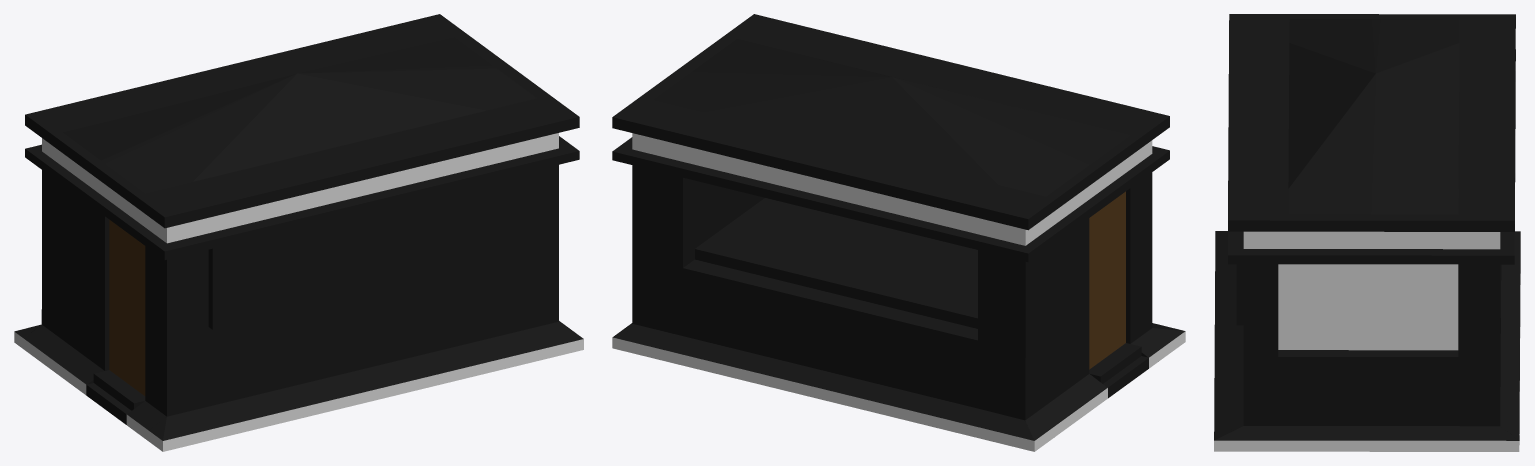
3 renders of one model, left to right at view 1: azimuth 30°, elevation 25°; view 2: azimuth 150°, elevation 25°; view 3: azimuth 270°, elevation 25°, orthographic. The views are drawn at different scales.
Parts seen in each view (by area): view 1: Cube.141; view 2: Cube.141; view 3: Cube.141.
Boxes of the visible parts, <box> form: Cube.141: <box>14,14,583,451</box>; Cube.141: <box>612,14,1185,451</box>; Cube.141: <box>1214,14,1520,451</box>.
Size of the model in its own units: 440 by 267 by 270.
